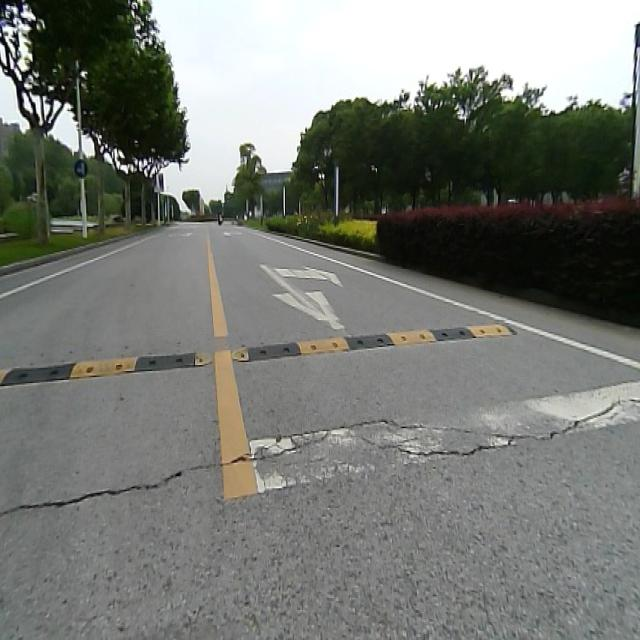Speed Bump: (3, 317, 518, 388)
